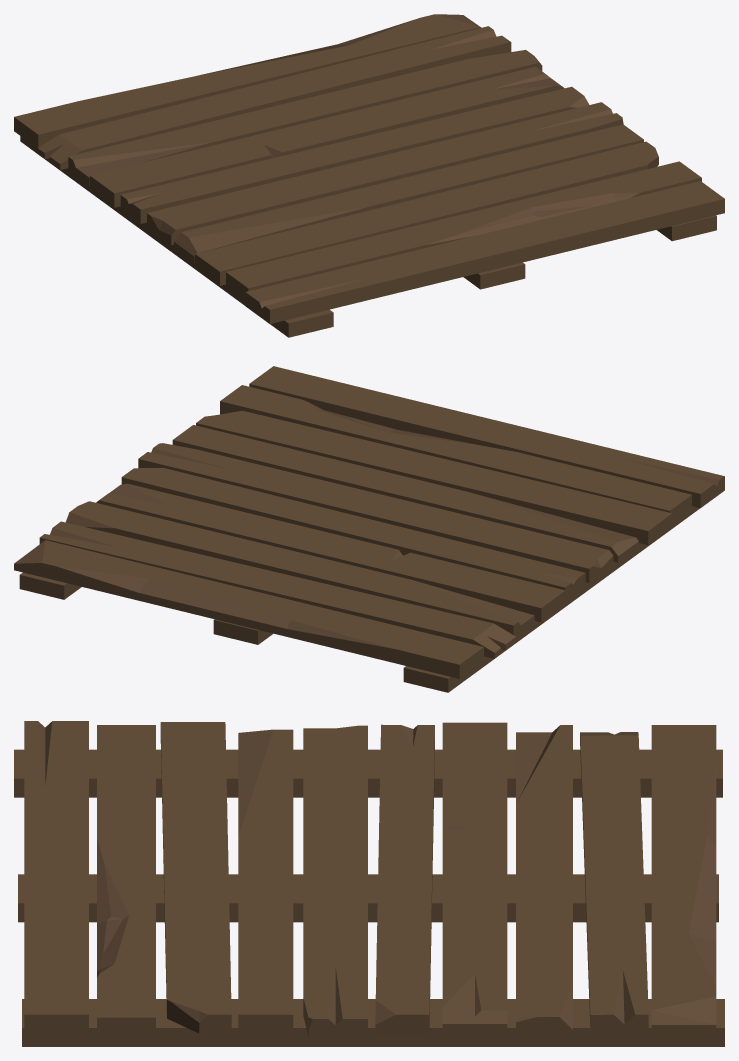
Rendered from SM_Pallet_03.glb.
3 views of the same model, one above another, from view 1: azimuth 30°, elevation 25°; view 2: azimuth 150°, elevation 25°; view 3: azimuth 270°, elevation 25° (orthographic). The views are drawn at different scales.
Visible parts, largest first — view 1: SM_Pallet_03; view 2: SM_Pallet_03; view 3: SM_Pallet_03.
Boxes of the visible parts, bbox=[...] form: SM_Pallet_03: bbox=[14, 14, 724, 337]; SM_Pallet_03: bbox=[14, 366, 724, 692]; SM_Pallet_03: bbox=[14, 721, 724, 1046].
Size of the model in its own units: 1.01 by 0.06 by 1.02.
1 material, 1 textured.
